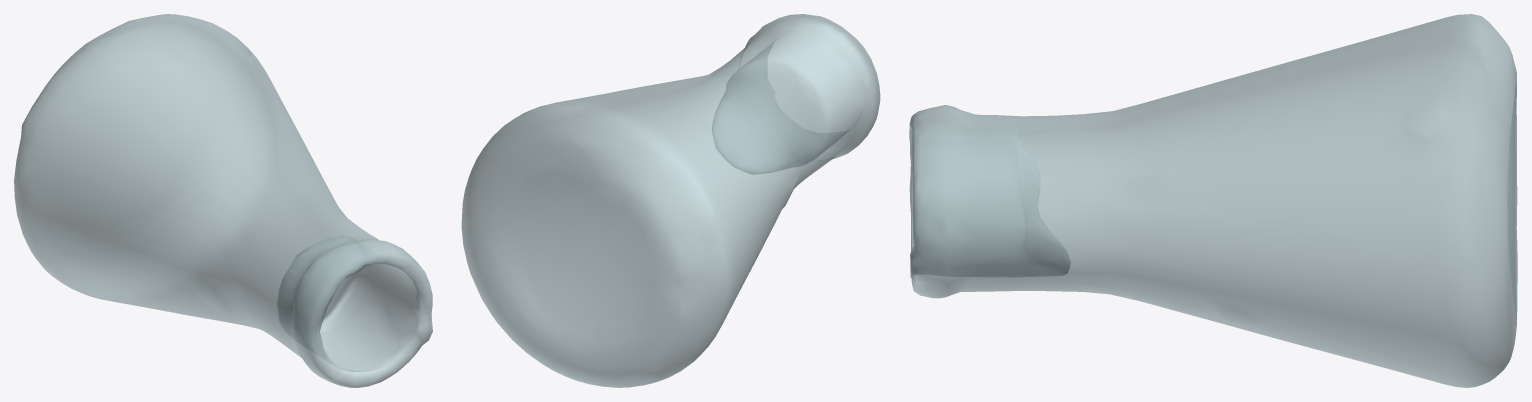
3 views of the same model, side by side, from view 1: azimuth 30°, elevation 25°; view 2: azimuth 150°, elevation 25°; view 3: azimuth 270°, elevation 25° (orthographic). The views are drawn at different scales.
Visible parts, largest first — view 1: scan.ply; view 2: scan.ply; view 3: scan.ply.
Boxes of the visible parts, box(x1,y1,x2,y2) form: scan.ply: box(14, 14, 432, 387); scan.ply: box(461, 14, 880, 387); scan.ply: box(909, 14, 1517, 387).
Bounding box in the file's own units: 0.0745 × 0.0748 × 0.1217.
